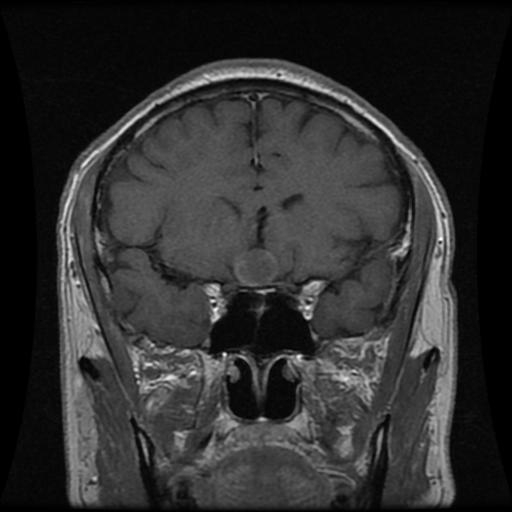Pituirity_tumour: (234, 246, 279, 285)
